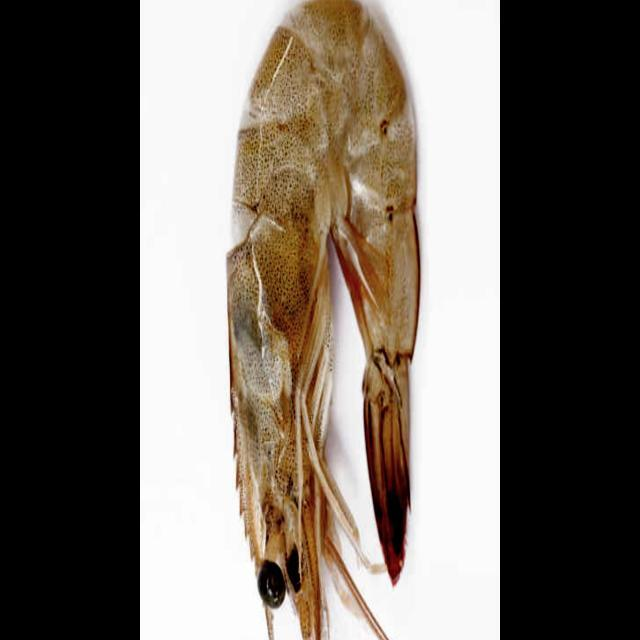shrimp: (226, 0, 418, 640)
